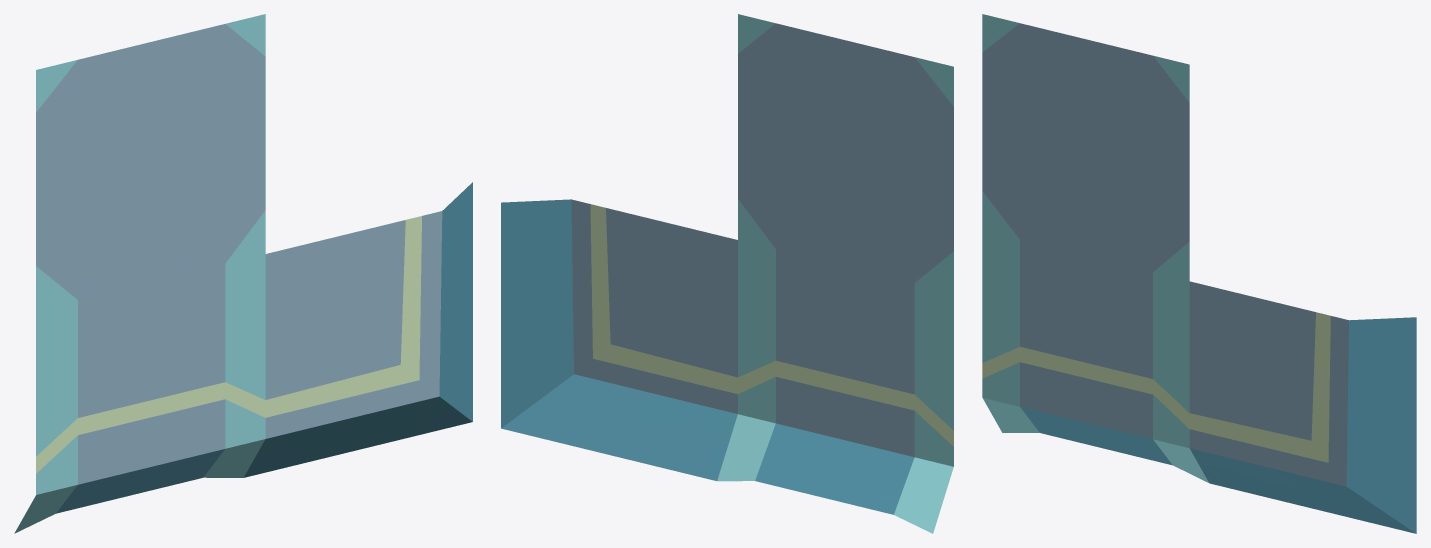
File: platforms_tiles.glb
3 views of the same model, side by side, from view 1: azimuth 30°, elevation 25°; view 2: azimuth 150°, elevation 25°; view 3: azimuth 330°, elevation 25° (orthographic). The views are drawn at different scales.
Parts seen in each view (by area): view 1: platform-middle, platform-side, platform-angle; view 2: platform-angle, platform-side, platform-middle; view 3: platform-angle, platform-middle, platform-side.
Boxes of the visible parts, x1=… form: platform-middle: x1=36, y1=14, x2=265, y2=309; platform-side: x1=14, y1=254, x2=265, y2=533; platform-angle: x1=243, y1=182, x2=472, y2=477; platform-angle: x1=501, y1=199, x2=737, y2=480; platform-side: x1=717, y1=240, x2=953, y2=533; platform-middle: x1=738, y1=14, x2=953, y2=292; platform-angle: x1=1189, y1=281, x2=1416, y2=533; platform-middle: x1=982, y1=14, x2=1189, y2=281; platform-side: x1=982, y1=231, x2=1208, y2=482.
Bounding box in the file's own units: 6 × 6 × 0.5.
Materials: 1 (1 with a texture image).
